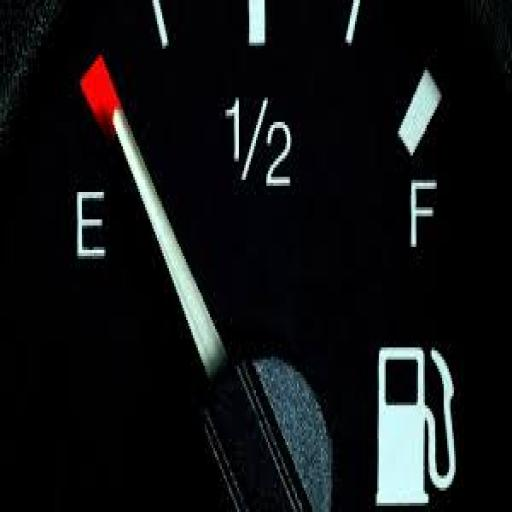empty: (74, 184, 106, 261)
fuel_icon: (373, 341, 457, 508)
full: (408, 172, 438, 249)
guage_area: (42, 0, 466, 510)
needle_center: (195, 335, 336, 512)
needle_tip: (104, 94, 142, 168)
